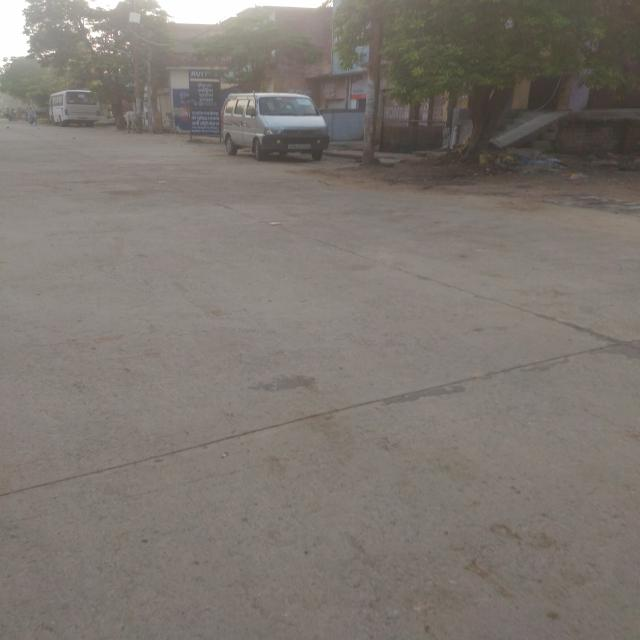Bus: (48, 90, 100, 126)
Car: (220, 92, 330, 160)
